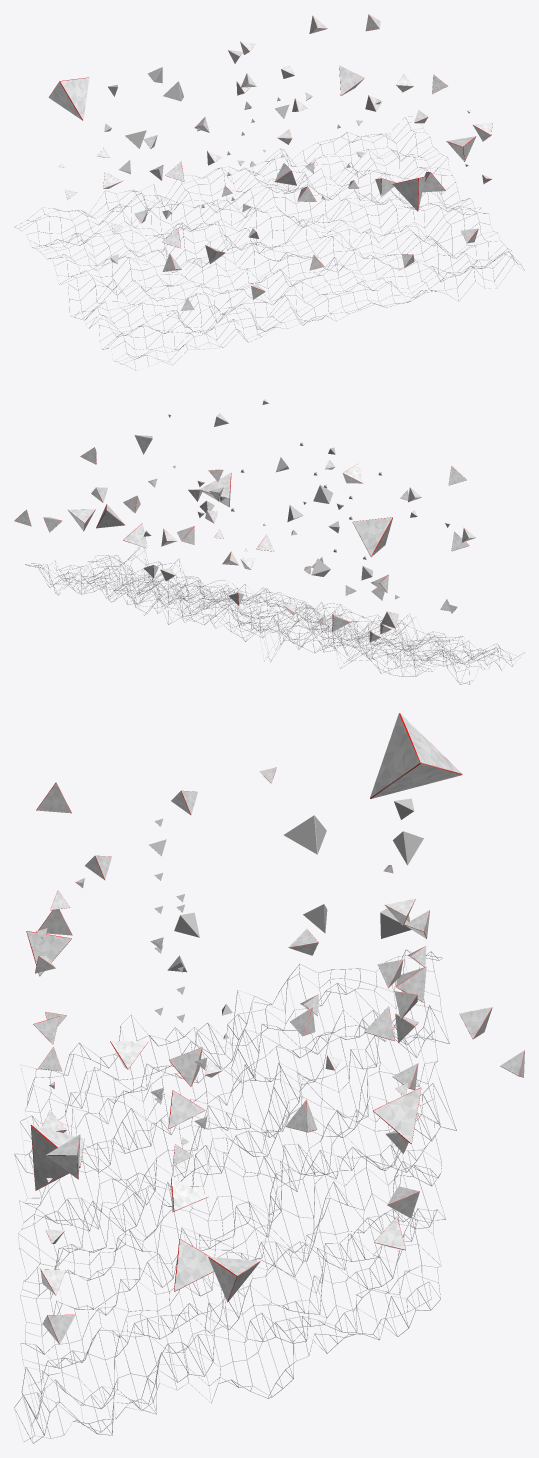
The model's file is BackW2.fbx.
3 views of the same model, one above another, from view 1: azimuth 30°, elevation 25°; view 2: azimuth 150°, elevation 25°; view 3: azimuth 270°, elevation 25° (orthographic). The views are drawn at different scales.
Visible parts, largest first — view 1: Waves, Tris.089, Tris.085, Tris.029; view 2: Waves, Tris.089, Tris.085, Tris.029, Tris.019; view 3: Waves, Tris.089, Tris.085, Tris.029, Tris.006, Tris.019, Tris.023, Tris.001, Tris.053.
Part boxes in pixels (x1=…): Waves: x1=14, y1=116, x2=524, y2=370; Tris.089: x1=48, y1=77, x2=89, y2=120; Tris.085: x1=392, y1=176, x2=425, y2=211; Tris.029: x1=339, y1=65, x2=364, y2=95; Waves: x1=25, y1=546, x2=524, y2=684; Tris.089: x1=352, y1=517, x2=392, y2=556; Tris.085: x1=199, y1=473, x2=231, y2=507; Tris.029: x1=96, y1=504, x2=124, y2=528; Tris.019: x1=68, y1=509, x2=95, y2=531; Waves: x1=14, y1=949, x2=456, y2=1443; Tris.089: x1=370, y1=713, x2=462, y2=798; Tris.085: x1=30, y1=1124, x2=84, y2=1190; Tris.029: x1=373, y1=1087, x2=421, y2=1143; Tris.006: x1=174, y1=1239, x2=213, y2=1291; Tris.019: x1=208, y1=1257, x2=260, y2=1302; Tris.023: x1=284, y1=815, x2=326, y2=854; Tris.001: x1=26, y1=931, x2=71, y2=976; Tris.053: x1=46, y1=1134, x2=80, y2=1179.
Size of the model in its own units: 4179 by 2149 by 2335.
